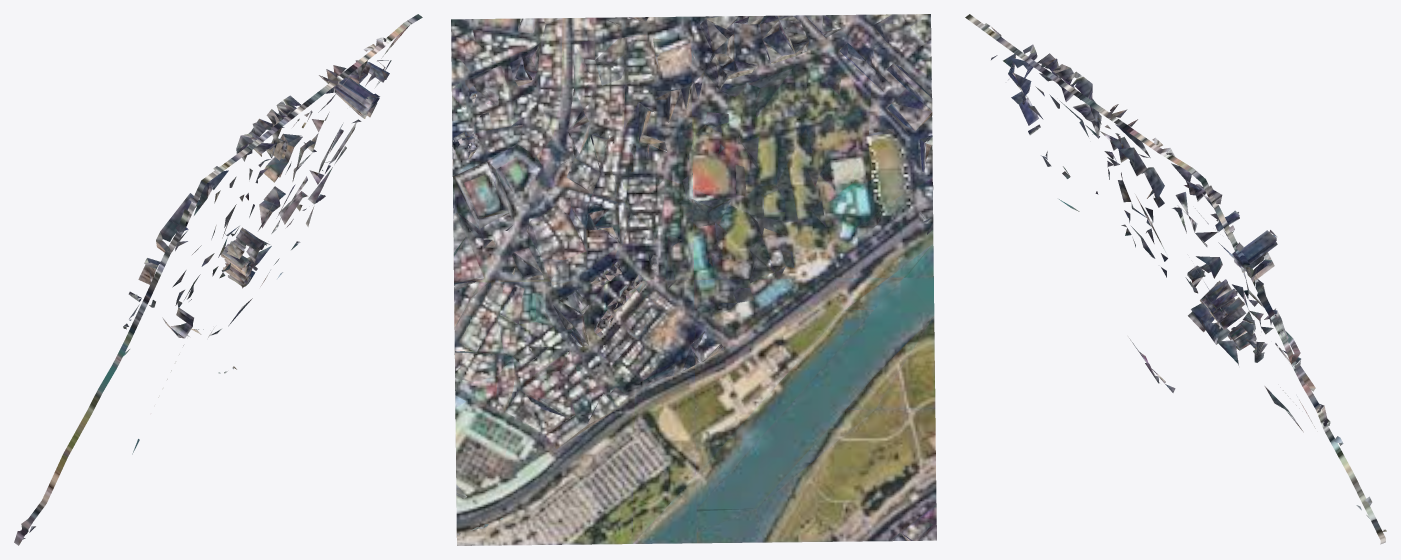
3 renders of one model, left to right at view 1: azimuth 30°, elevation 25°; view 2: azimuth 150°, elevation 25°; view 3: azimuth 270°, elevation 25°, orthographic. The views are drawn at different scales.
Size of the model in its own units: 1229 by 1128 by 1029.
Materials: 1 (1 with a texture image).
